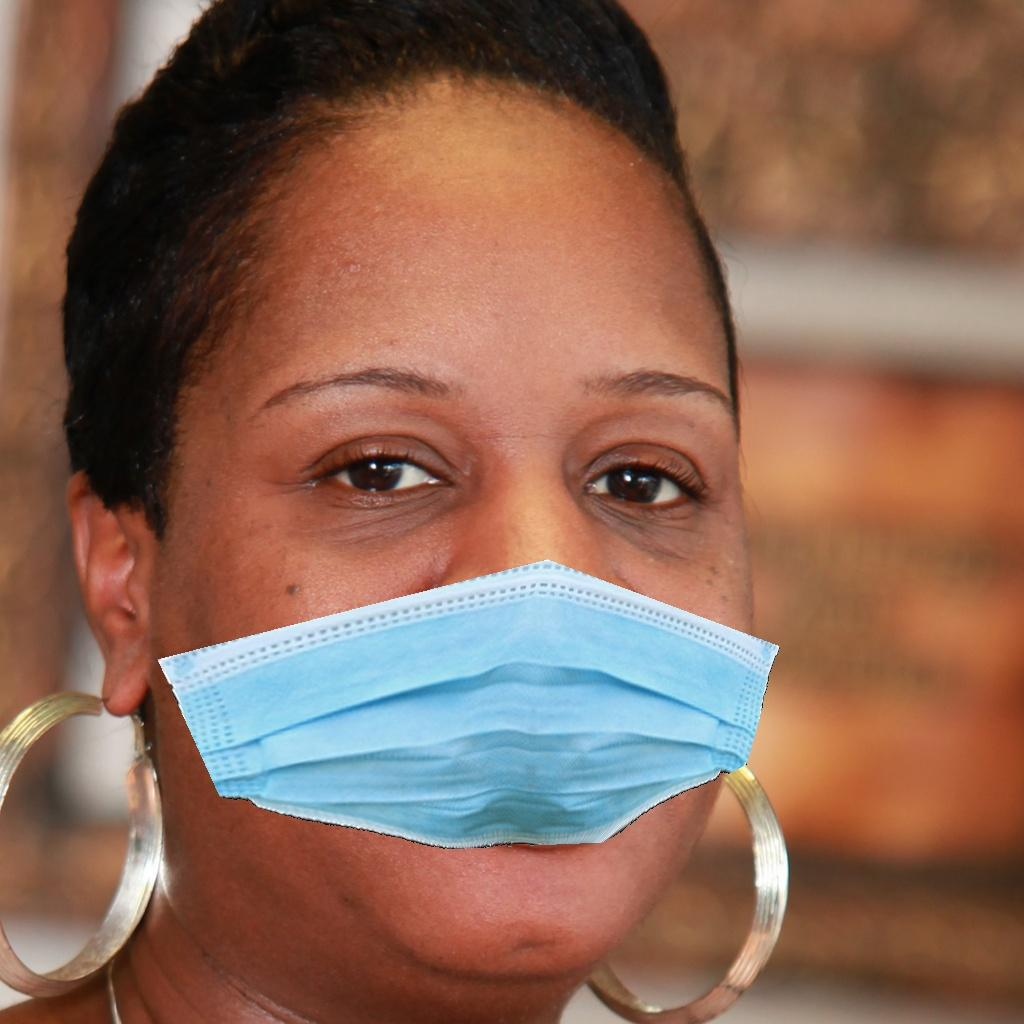Com Máscara: (148, 240, 783, 945)
